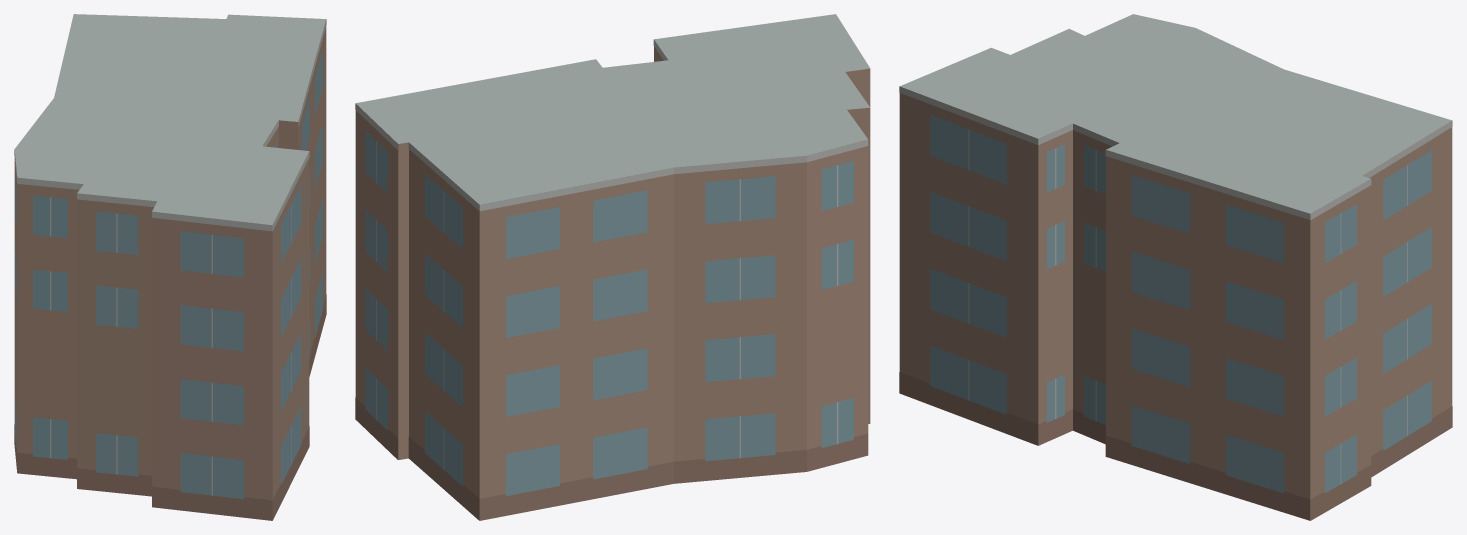
File: survey-upis-32824039.glb
The picture shows the model from 3 angles, left to right: view 1: azimuth 30°, elevation 25°; view 2: azimuth 150°, elevation 25°; view 3: azimuth 270°, elevation 25°; orthographic projection. The views are drawn at different scales.
Parts seen in each view (by area): view 1: survey-upis-32824039.tmp; view 2: survey-upis-32824039.tmp; view 3: survey-upis-32824039.tmp.
Boxes of the visible parts, bbox=[...] form: survey-upis-32824039.tmp: bbox=[14, 14, 326, 520]; survey-upis-32824039.tmp: bbox=[355, 14, 870, 520]; survey-upis-32824039.tmp: bbox=[899, 14, 1452, 520].
Bounding box in the file's own units: 16.34 × 11.7 × 19.1.
